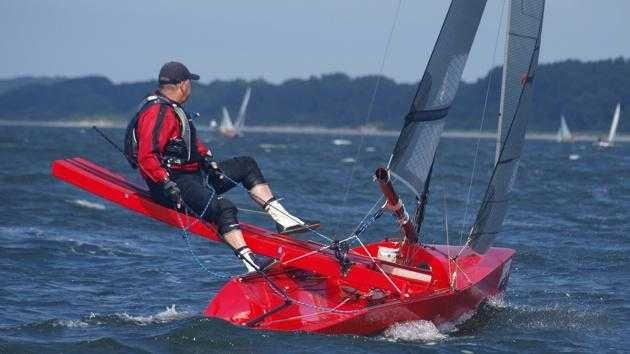kayak: (223, 0, 545, 337), (594, 99, 624, 150), (557, 115, 573, 143)
